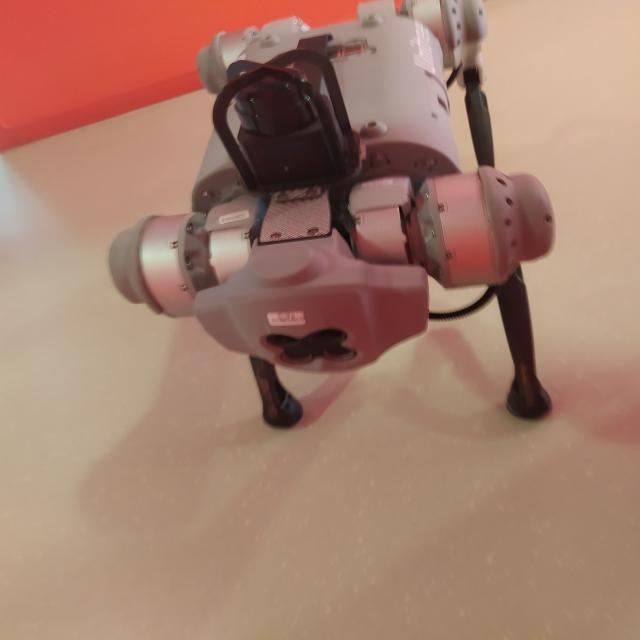unitree-go1-robot: (104, 6, 558, 427)
